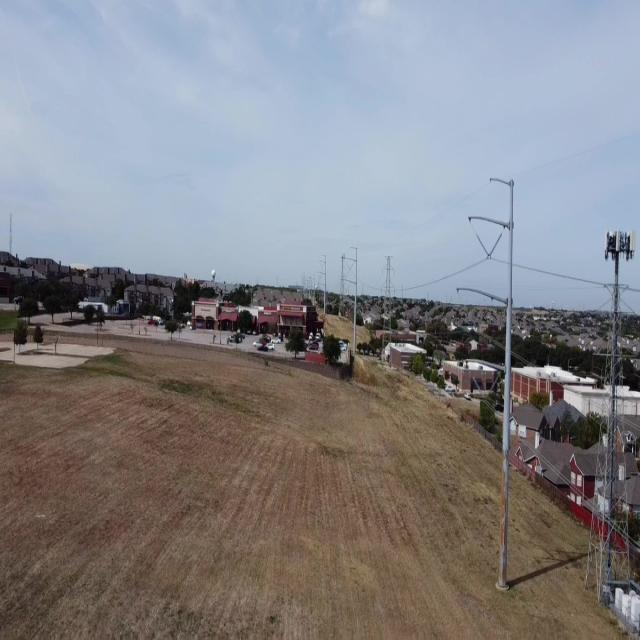杆塔: (578, 223, 639, 609), (378, 250, 398, 370), (337, 249, 348, 320)
正常绝缘子: (480, 370, 502, 407), (461, 296, 480, 338), (471, 301, 493, 337), (473, 228, 492, 262), (470, 371, 488, 406), (485, 230, 504, 262), (392, 285, 396, 300), (380, 267, 385, 278), (379, 285, 383, 298), (392, 266, 396, 278)
